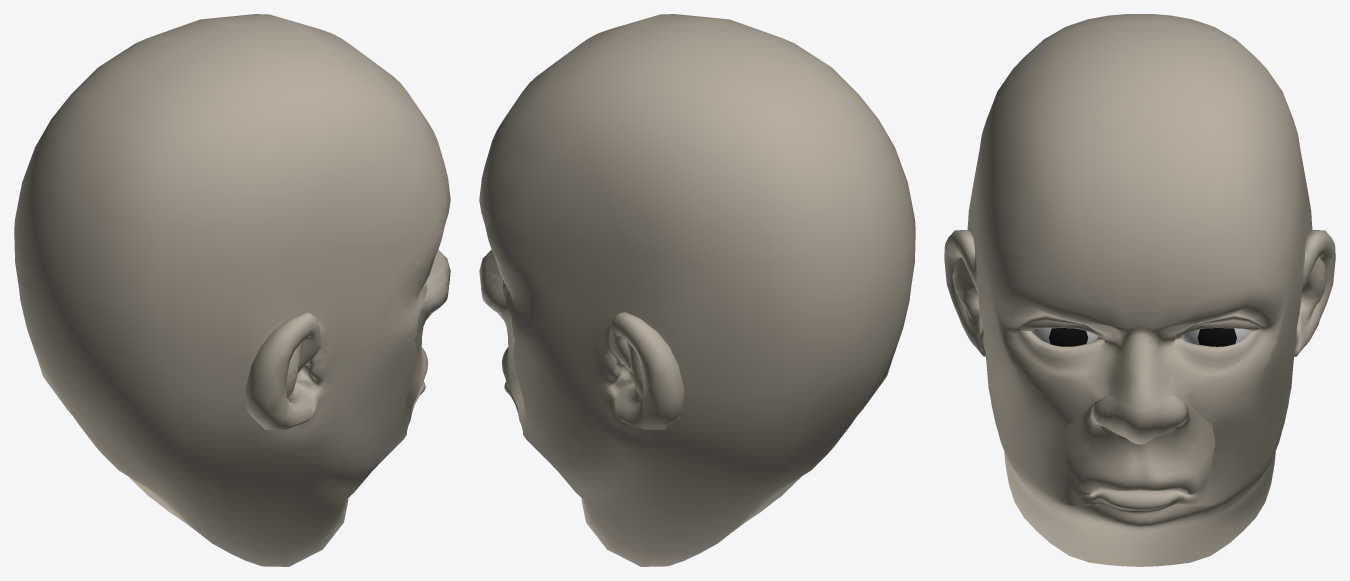
File: infihead.fbx
3 views of the same model, side by side, from view 1: azimuth 30°, elevation 25°; view 2: azimuth 150°, elevation 25°; view 3: azimuth 270°, elevation 25° (orthographic).
Parts seen in each view (by area): view 1: infihead; view 2: infihead; view 3: infihead, Sphere, Sphere.001.
Part boxes in pixels (<box>): infihead: <box>14,14,450,566</box>; infihead: <box>479,14,915,566</box>; infihead: <box>944,14,1335,566</box>; Sphere: <box>1181,328,1250,346</box>; Sphere.001: <box>1031,328,1098,346</box>.
Size of the model in its own units: 1.04 by 0.8721 by 1.24.
